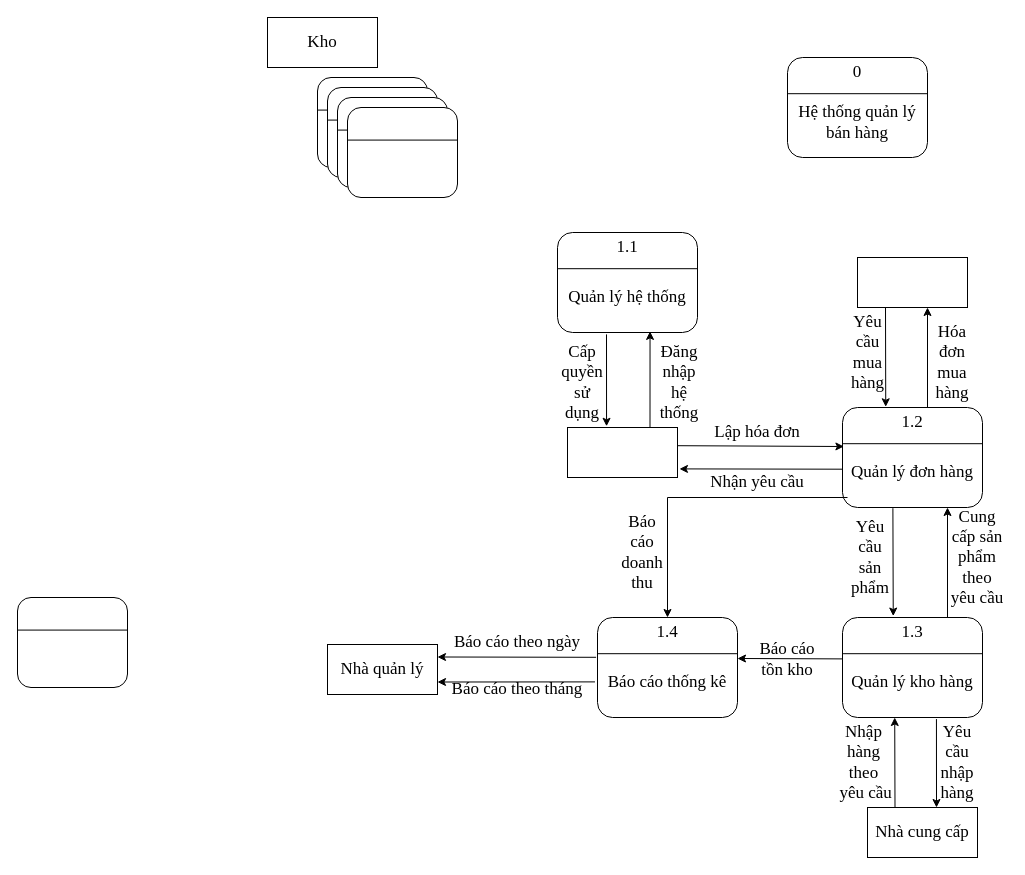
Some shapes in this 1025 by 875 pixel diagram are drawn without their labels. The centre of each missing label's shape, as x and y in pixels:
Khách hàng: the point at 912,282
Nhân viên: the point at 622,452
